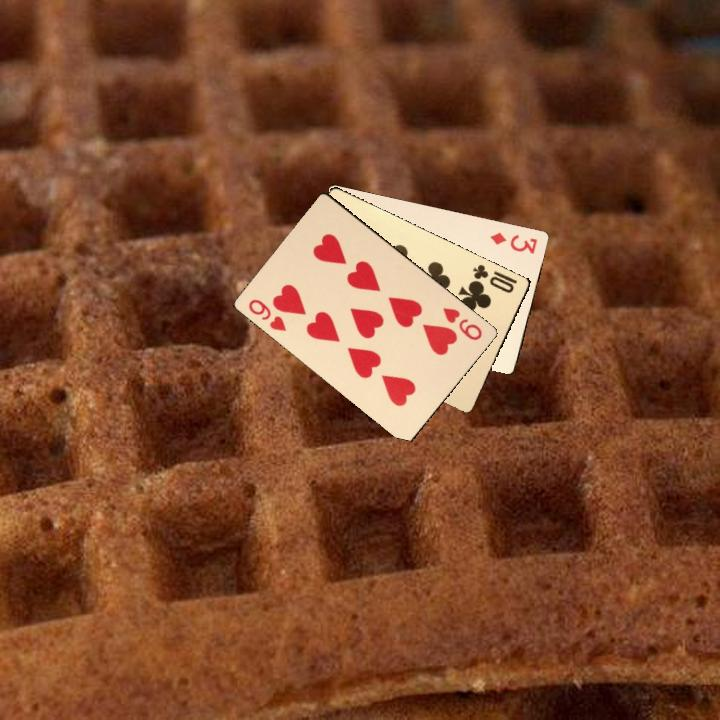10c: (468, 260, 519, 296)
3d: (486, 228, 540, 256)
9h: (439, 303, 485, 343), (244, 295, 289, 334)
